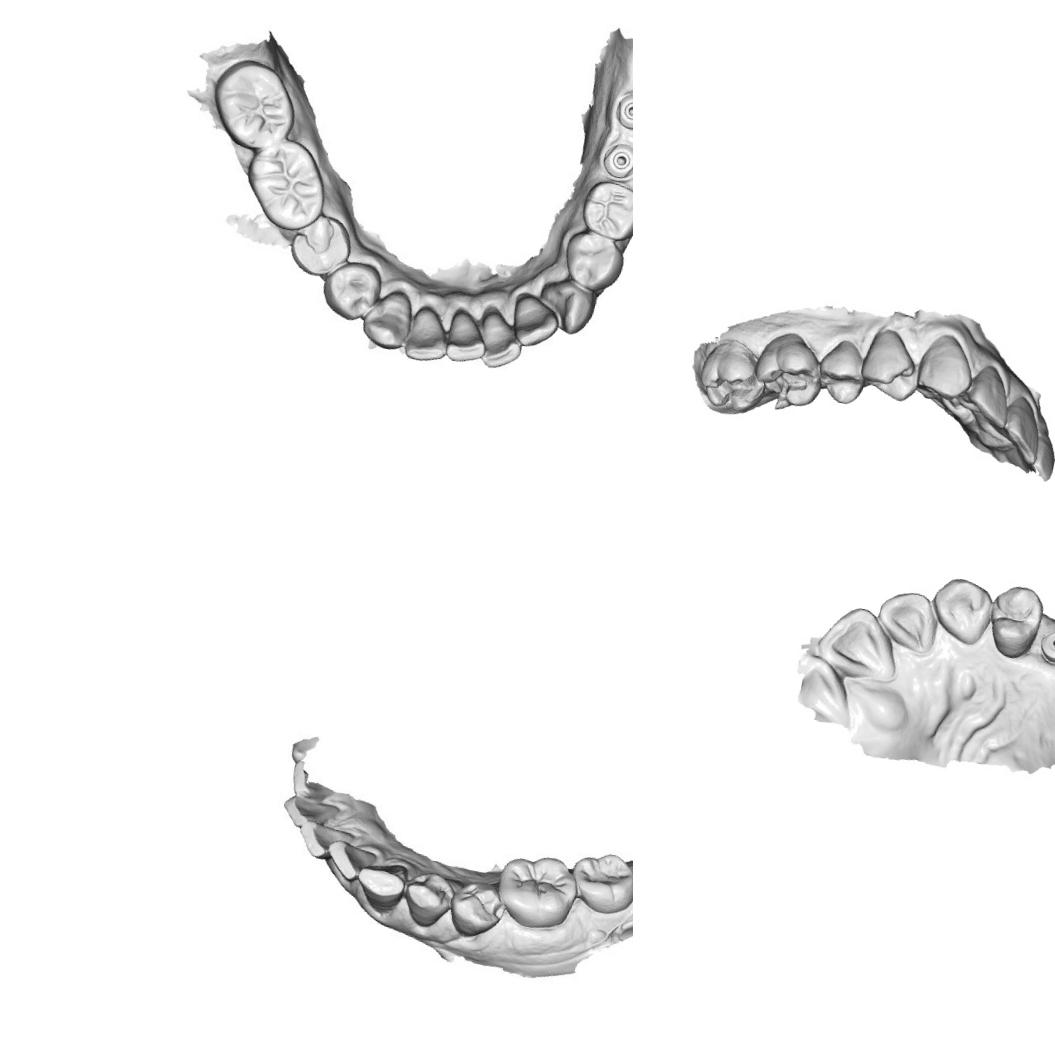canine: (922, 569, 998, 649), (912, 328, 980, 403), (531, 272, 600, 335), (356, 278, 414, 352), (346, 856, 408, 922)
implant: (594, 136, 633, 181), (609, 88, 633, 135), (1036, 627, 1055, 668)
incisor: (808, 596, 907, 686), (867, 584, 942, 657), (962, 360, 1018, 430), (996, 392, 1049, 465), (507, 292, 563, 358), (472, 306, 526, 371), (399, 302, 450, 369), (440, 306, 487, 368), (324, 834, 380, 884), (300, 817, 361, 862), (281, 788, 342, 831)
molar: (203, 52, 305, 162), (236, 133, 334, 237), (747, 326, 831, 416), (498, 844, 584, 929), (693, 333, 773, 416), (568, 843, 633, 918)
premolar: (981, 580, 1050, 664), (560, 226, 626, 295), (286, 212, 354, 278), (812, 335, 872, 407), (858, 324, 923, 390), (575, 176, 633, 249), (443, 876, 504, 942), (321, 259, 379, 324), (403, 868, 454, 928)
